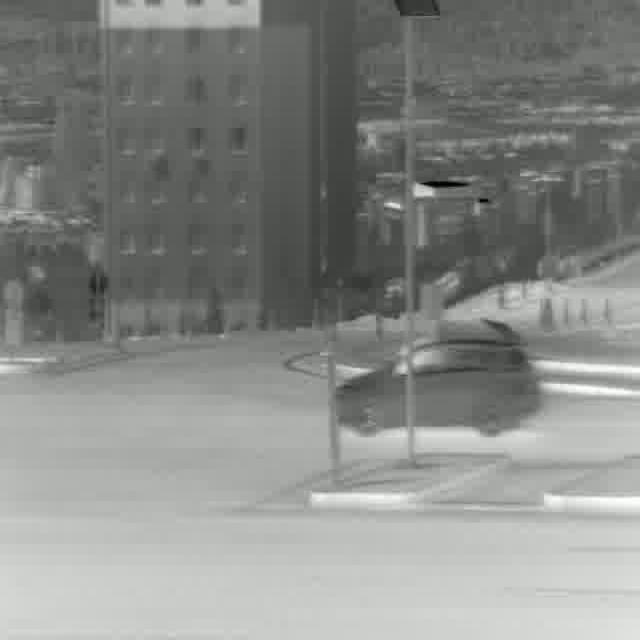Car: (333, 341, 542, 436)
